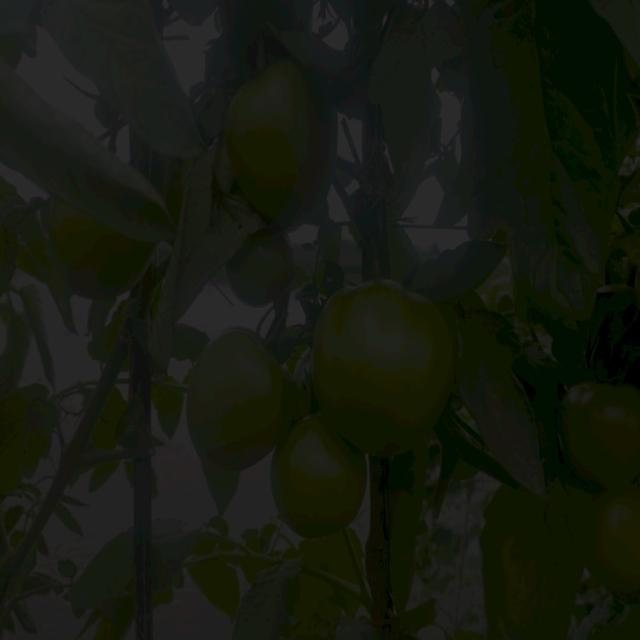tomato: (313, 285, 460, 446), (226, 67, 338, 227), (193, 329, 283, 454), (279, 423, 369, 531), (557, 375, 640, 492), (70, 215, 155, 293), (591, 500, 640, 607), (234, 240, 288, 314)
